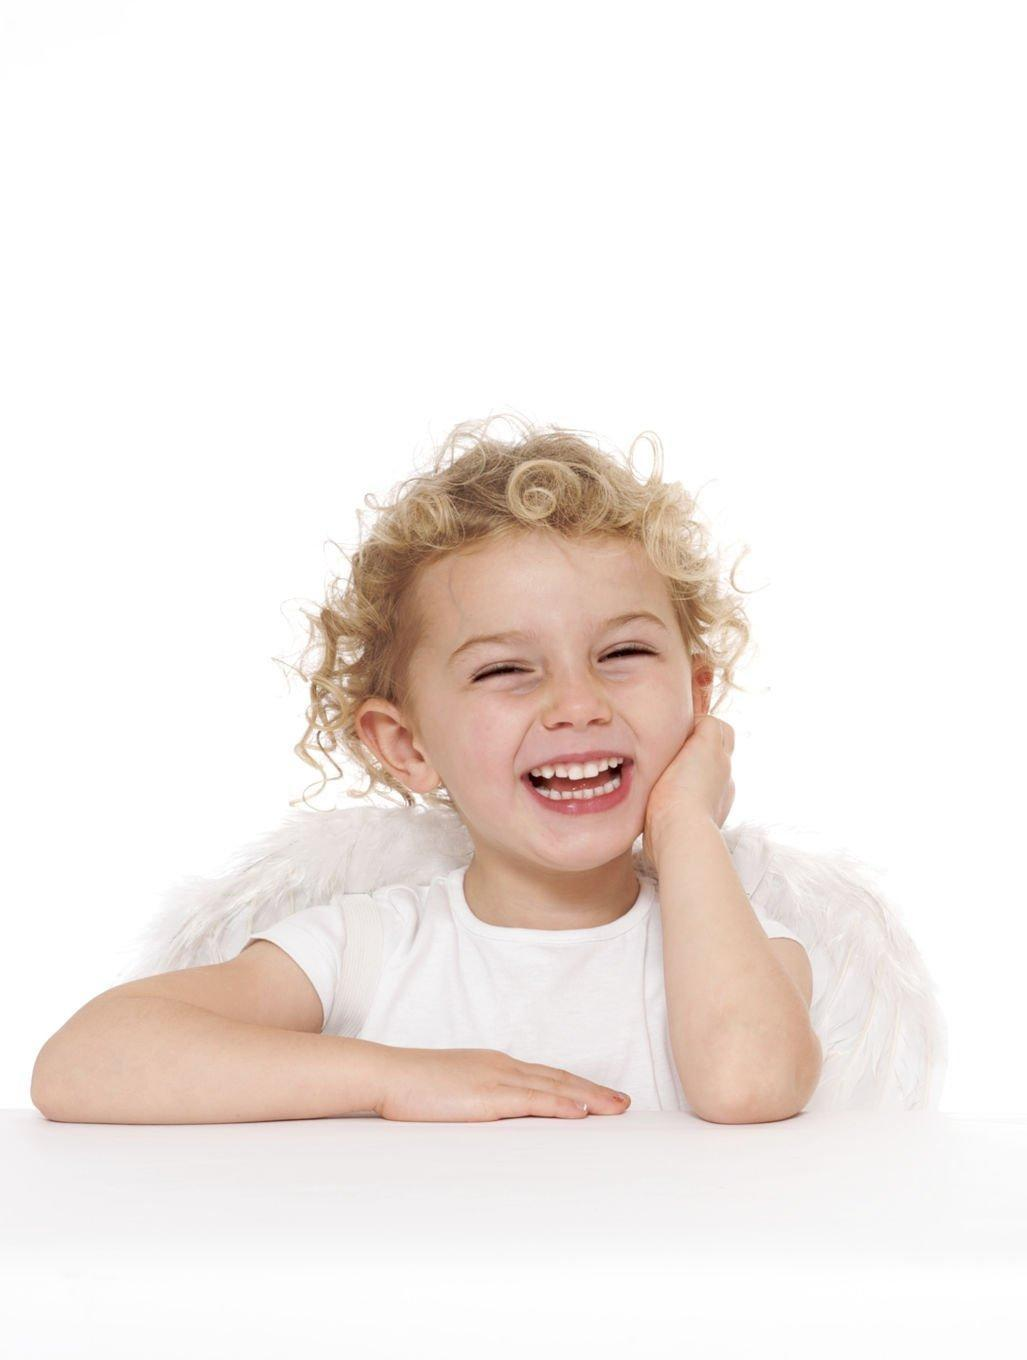Healthy: (350, 427, 659, 884)
